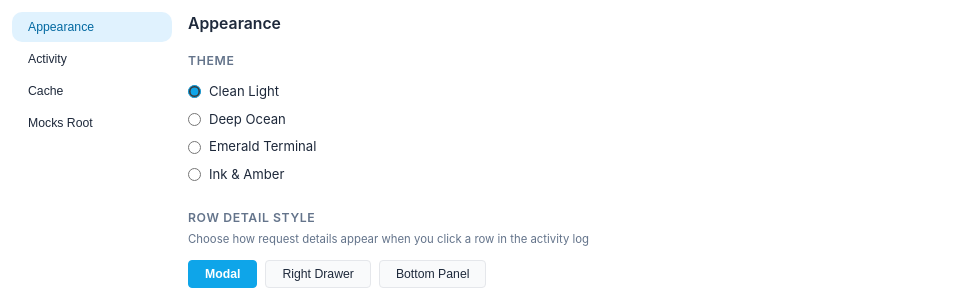
it: SettingsPage › clicking cache nav shows CacheSettings section
The image size is (956, 305).
Click the button with test id "settings-nav-cache": (92, 91) [12, 76, 172, 106]
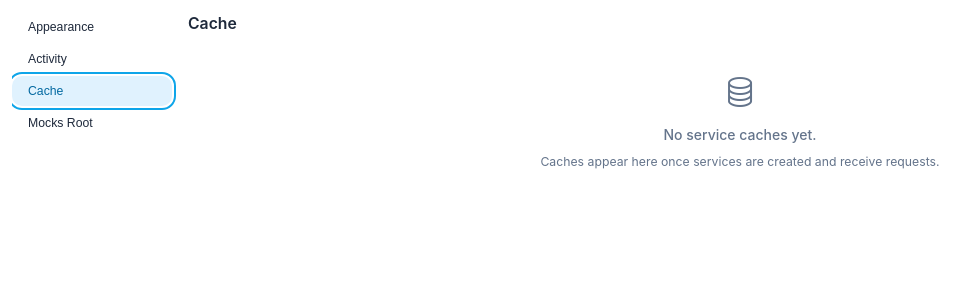
Check: the element with test id "settings-appearance" is gone
